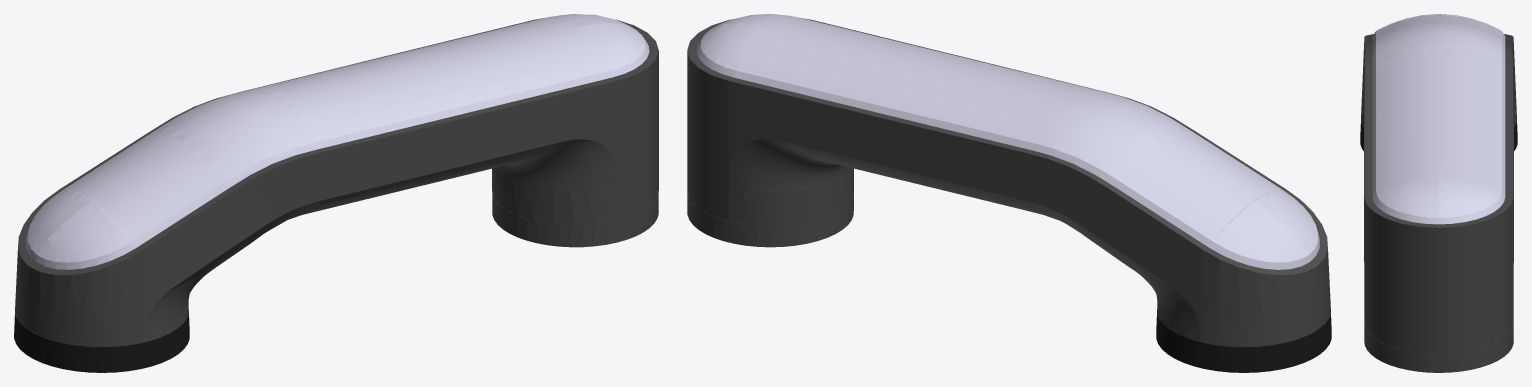
3 views of the same model, side by side, from view 1: azimuth 30°, elevation 25°; view 2: azimuth 150°, elevation 25°; view 3: azimuth 270°, elevation 25° (orthographic). The views are drawn at different scales.
Visible parts, largest first — view 1: mesh; view 2: mesh; view 3: mesh.
Boxes of the visible parts, <box> form: mesh: <box>14,14,658,372</box>; mesh: <box>687,14,1331,372</box>; mesh: <box>1360,14,1517,372</box>.
Bounding box in the file's own units: 0.31 × 0.0758 × 0.0916.
